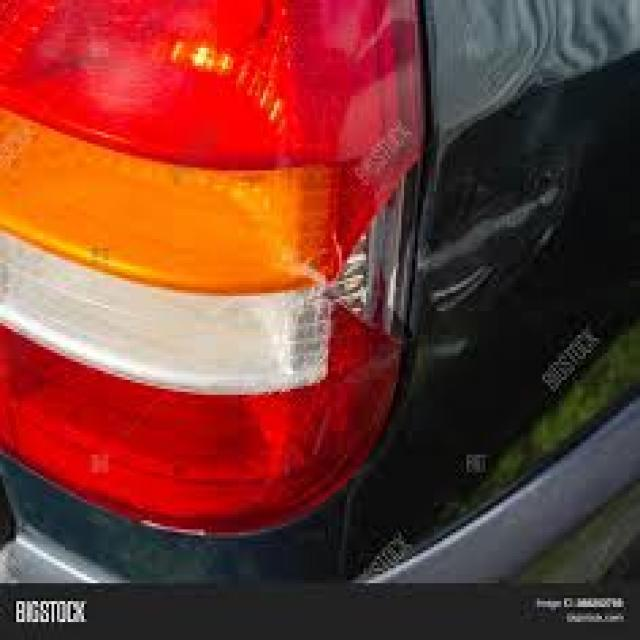damaged-tail-light: (1, 0, 433, 551)
